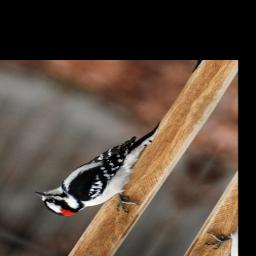Woodpecker: (27, 97, 187, 239)
